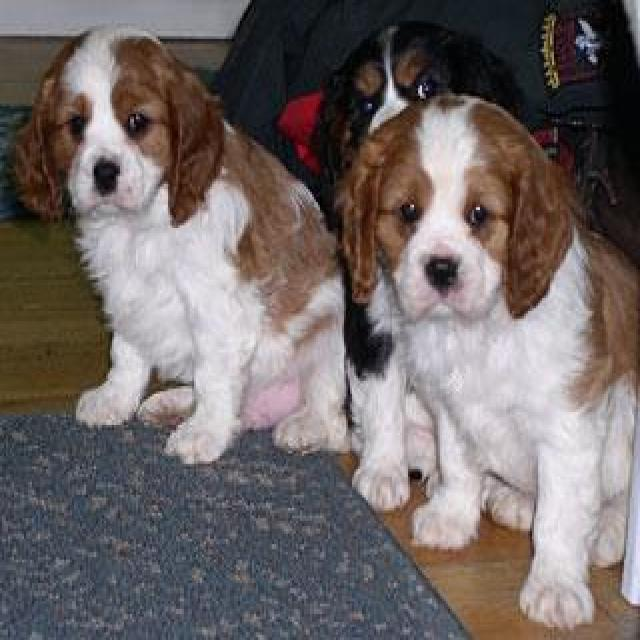blenheim_spaniel: (6, 18, 356, 474), (342, 93, 638, 630)
